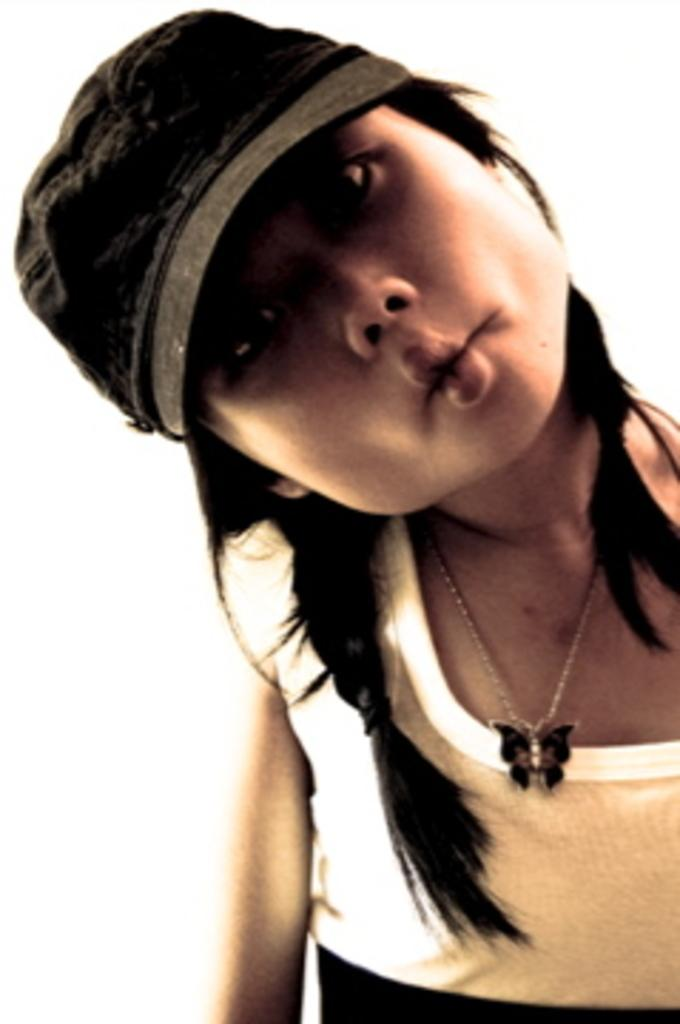Hat: (9, 2, 413, 450)
